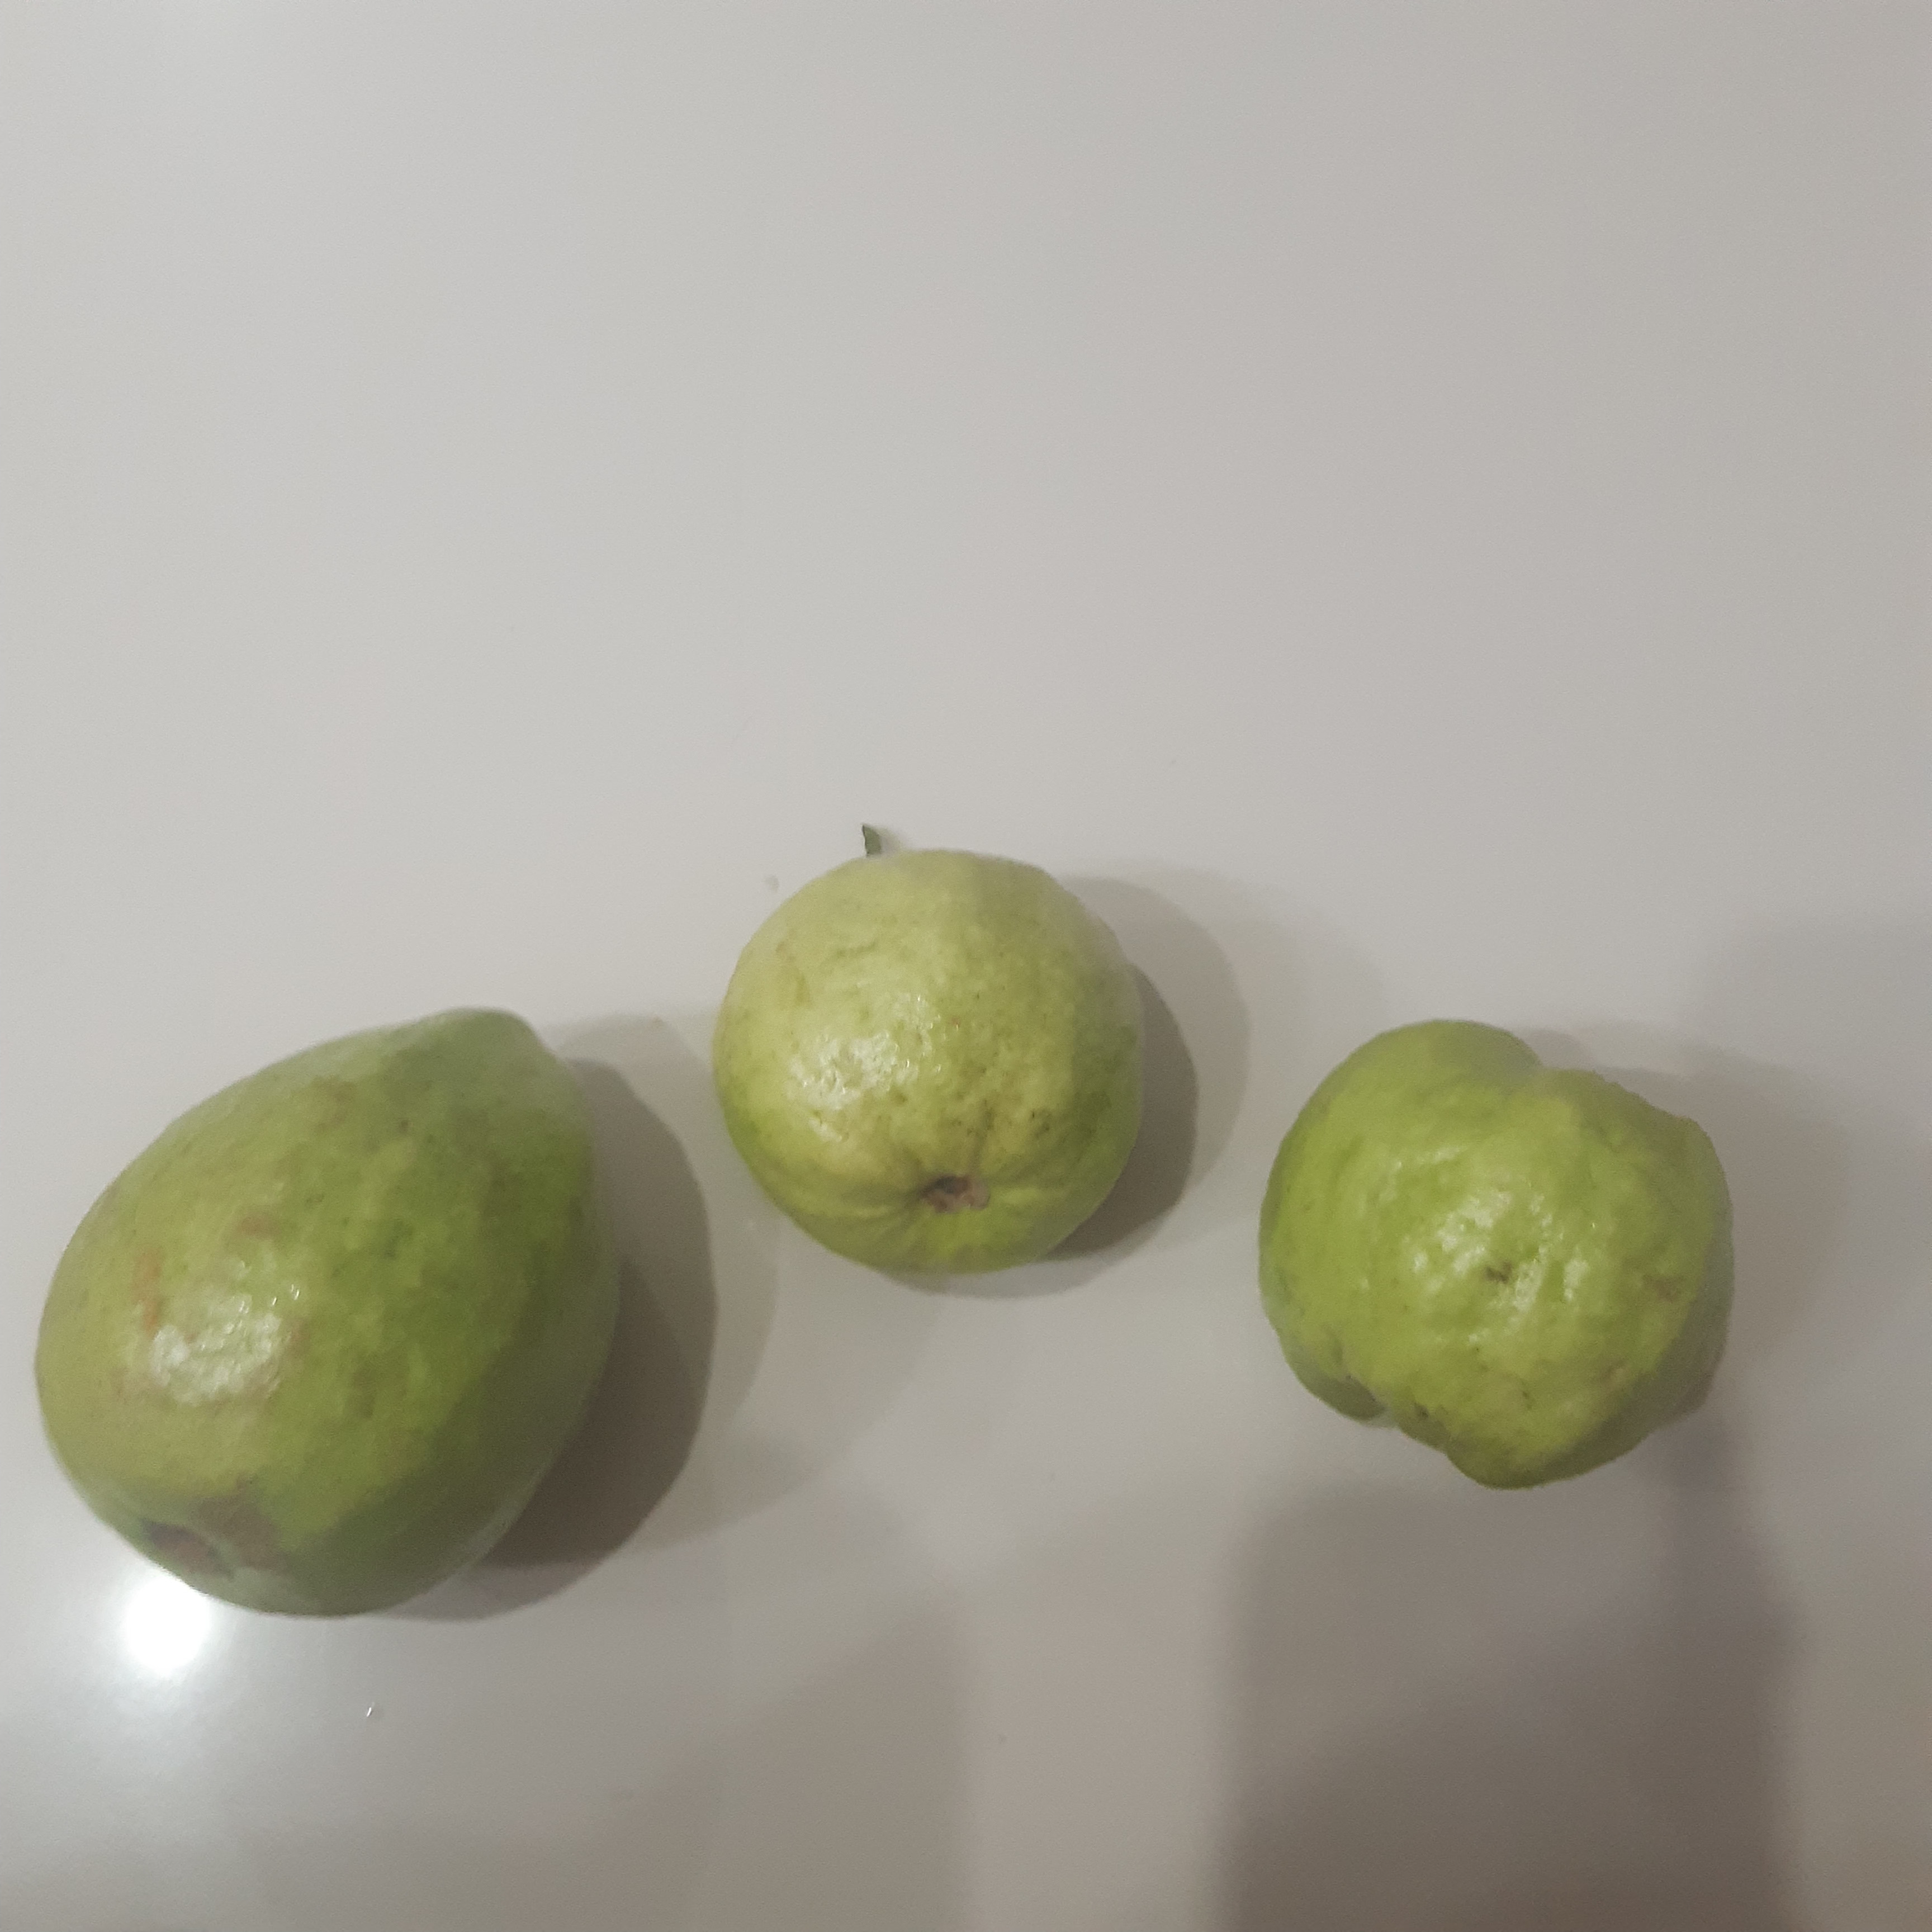Oi: (32, 1004, 623, 1620), (1259, 1019, 1734, 1492), (711, 844, 1148, 1284)
